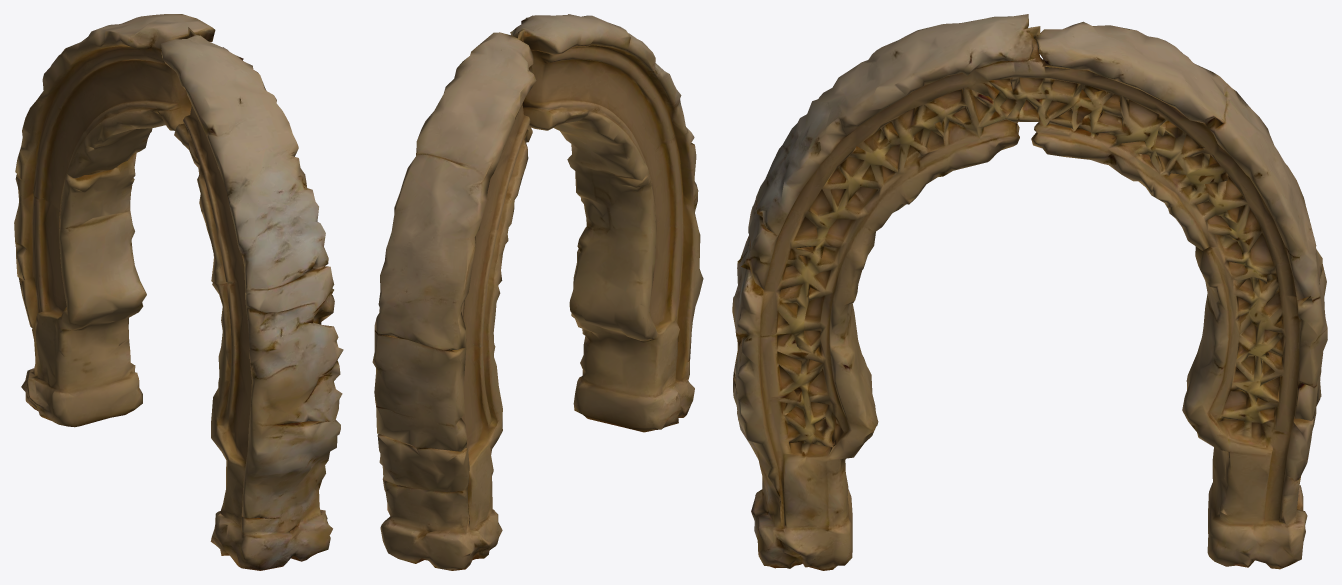
The model's file is ramp_arch.glb.
The picture shows the model from 3 angles, left to right: view 1: azimuth 30°, elevation 25°; view 2: azimuth 150°, elevation 25°; view 3: azimuth 270°, elevation 25°; orthographic projection. The views are drawn at different scales.
Parts seen in each view (by area): view 1: tripo_node_f92a0aad-1a38-4a3f-b2d6-436e3a65ec10; view 2: tripo_node_f92a0aad-1a38-4a3f-b2d6-436e3a65ec10; view 3: tripo_node_f92a0aad-1a38-4a3f-b2d6-436e3a65ec10.
Part boxes in pixels (x1,y1,x2,y2): tripo_node_f92a0aad-1a38-4a3f-b2d6-436e3a65ec10: (14,14,343,570); tripo_node_f92a0aad-1a38-4a3f-b2d6-436e3a65ec10: (372,14,703,570); tripo_node_f92a0aad-1a38-4a3f-b2d6-436e3a65ec10: (732,14,1327,570).
Size of the model in its own units: 0.2289 by 0.9848 by 1.
1 material, 1 textured.
